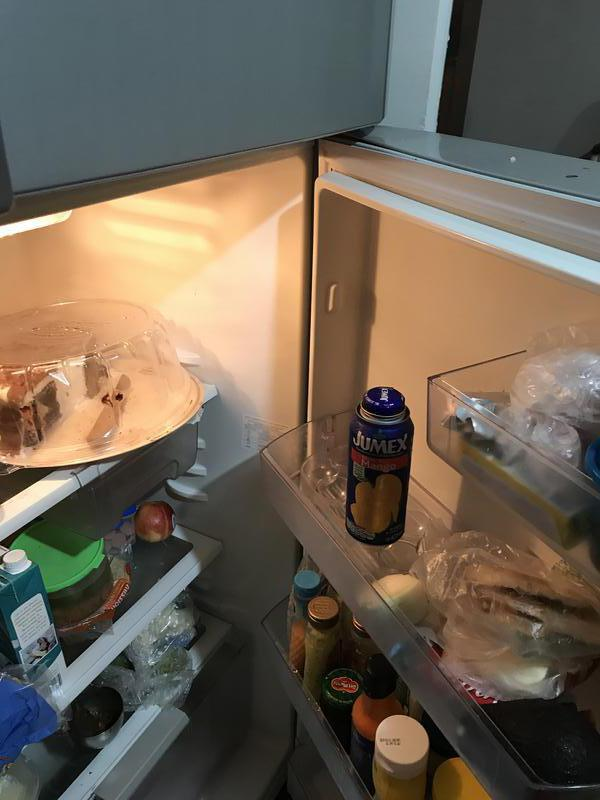jugo_jumex: (345, 385, 414, 548)
